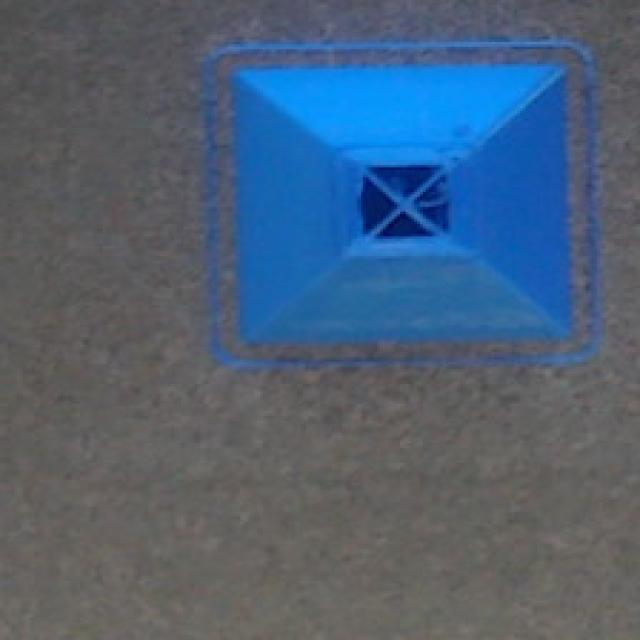mistake: (206, 42, 594, 367)
